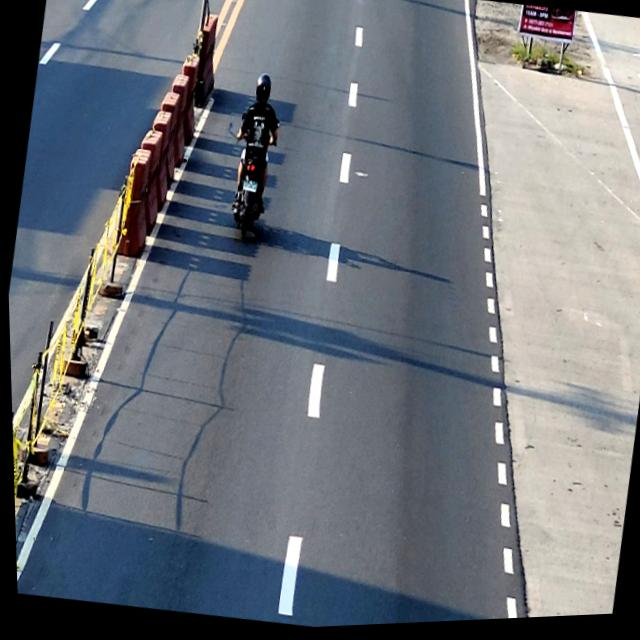License-Plate: (241, 179, 257, 197)
Motorcycle: (222, 110, 284, 246)
